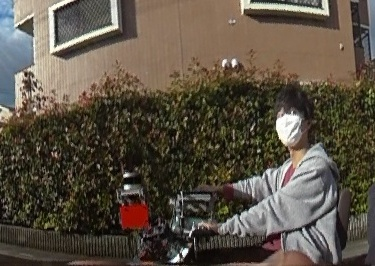person: (191, 86, 342, 266)
